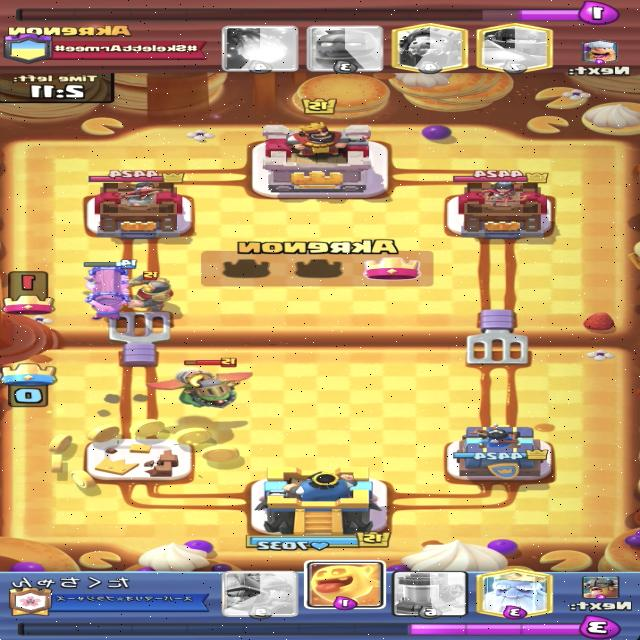Enemy-InfernoDragon: (143, 357, 254, 410)
Enemy-Knight: (111, 270, 184, 313)
Player-BattleRam: (81, 259, 138, 322)
